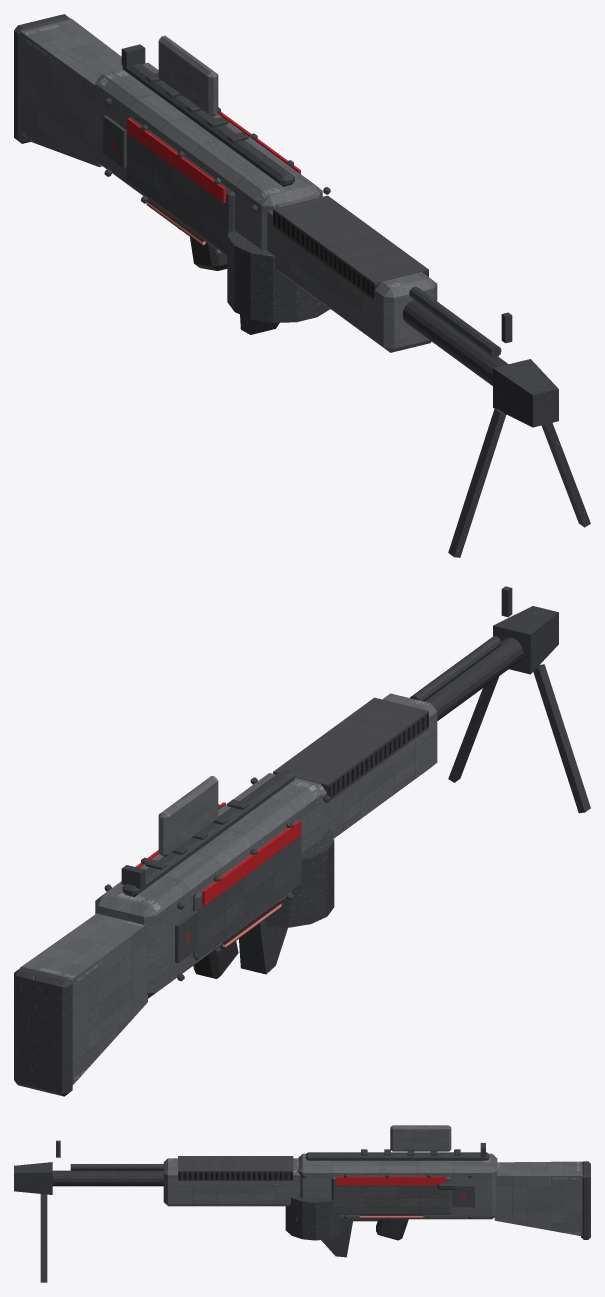
The model's file is mra_lmg.obj.
3 renders of one model, top to bottom at view 1: azimuth 30°, elevation 25°; view 2: azimuth 150°, elevation 25°; view 3: azimuth 270°, elevation 25°, orthographic. The views are drawn at different scales.
Parts seen in each view (by area): view 1: mra_lmg; view 2: mra_lmg; view 3: mra_lmg.
Boxes of the visible parts, box(x1,y1,x2,y2) form: mra_lmg: box(14, 14, 590, 557); mra_lmg: box(14, 586, 590, 1096); mra_lmg: box(14, 1125, 590, 1282).
Bounding box in the file's own units: 0.1624 × 0.2765 × 1.04.
1 material, 1 textured.
